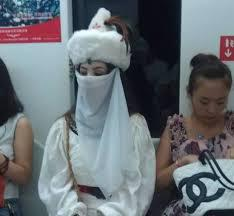NONE: (193, 93, 228, 125)
OK: (76, 66, 112, 102)
